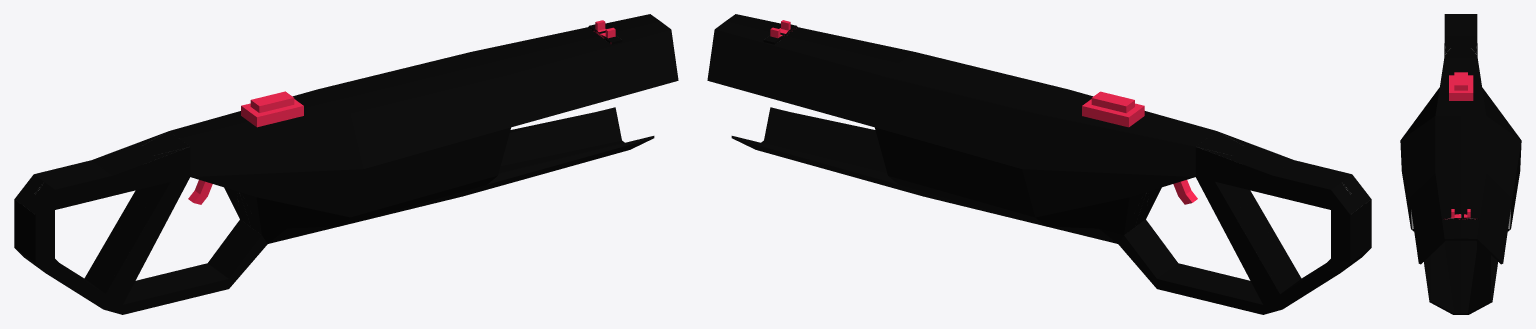
The model's file is gun.fbx.
3 renders of one model, left to right at view 1: azimuth 30°, elevation 25°; view 2: azimuth 150°, elevation 25°; view 3: azimuth 270°, elevation 25°, orthographic. The views are drawn at different scales.
Parts seen in each view (by area): view 1: Gun, Scope; view 2: Gun, Scope; view 3: Gun, Scope, Crosshair.
Part boxes in pixels (<box>): Gun: <box>14,14,678,314</box>; Scope: <box>241,91,303,127</box>; Gun: <box>707,14,1371,314</box>; Scope: <box>1082,91,1144,127</box>; Gun: <box>1400,14,1521,314</box>; Scope: <box>1449,72,1473,100</box>; Crosshair: <box>1445,209,1475,219</box>.
Bounding box in the file's own units: 6579 × 1405 × 1672.
